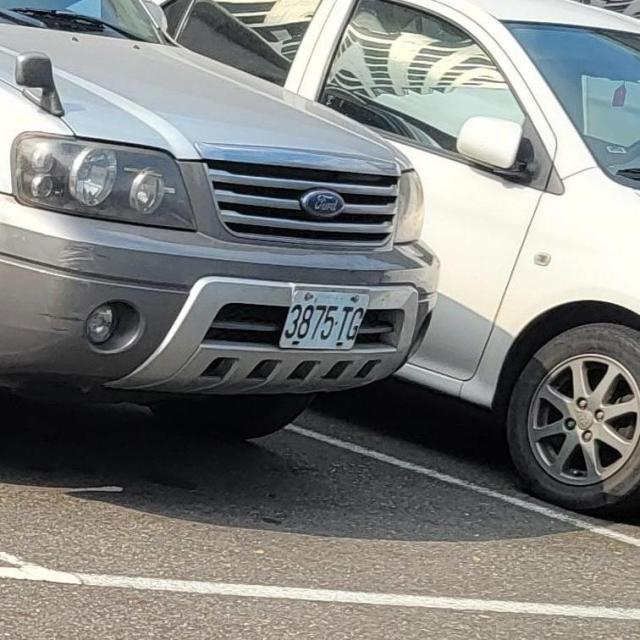W: (275, 273, 376, 365)
